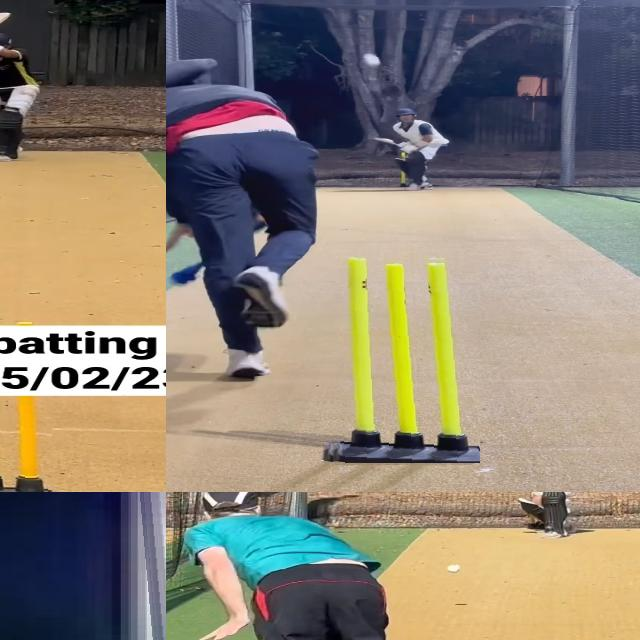Cricket ball: (127, 492, 166, 640), (353, 52, 388, 70), (447, 564, 462, 574)
Stumps: (324, 253, 480, 463), (0, 395, 52, 492)
